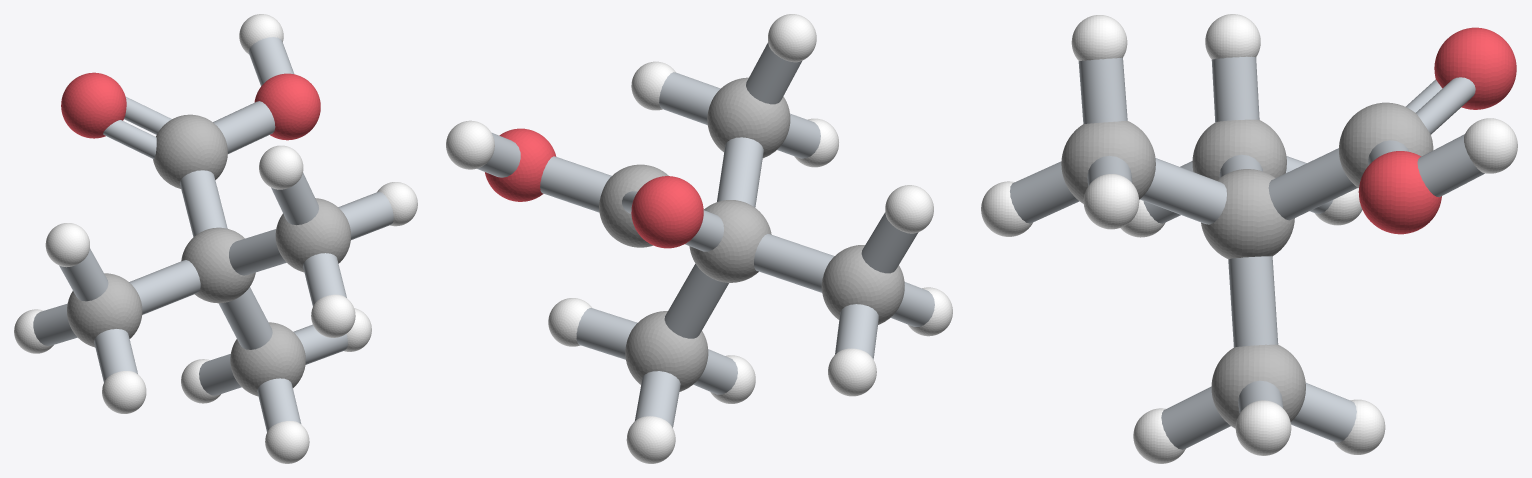
The model's file is Dimetilpropanoico.glb.
3 renders of one model, left to right at view 1: azimuth 30°, elevation 25°; view 2: azimuth 150°, elevation 25°; view 3: azimuth 270°, elevation 25°, orthographic. The views are drawn at different scales.
Bounding box in the file's own units: 4.35 × 4.22 × 4.83.
